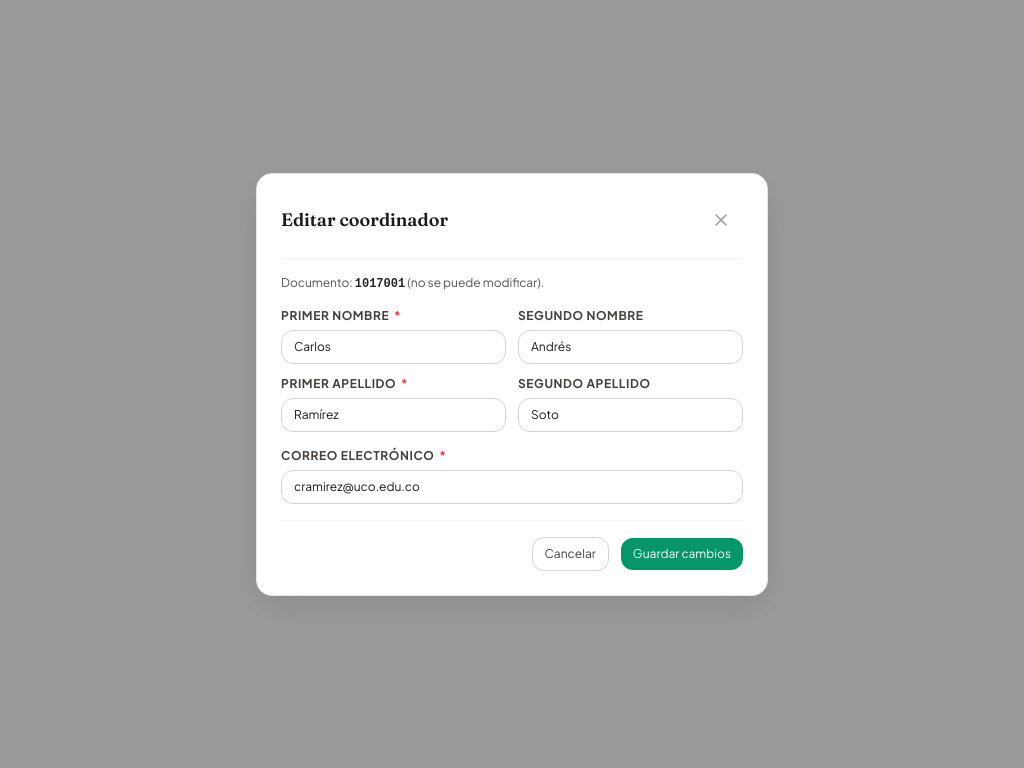
Scenario: DeanCoordinadorEditModalComponent (HU121) › valida al escribir: un correo sin formato deshabilita guardar
Replace the text in the field below "Correo electrónico" with "esto-no-es-un-correo": (512, 486) [281,470,743,504]
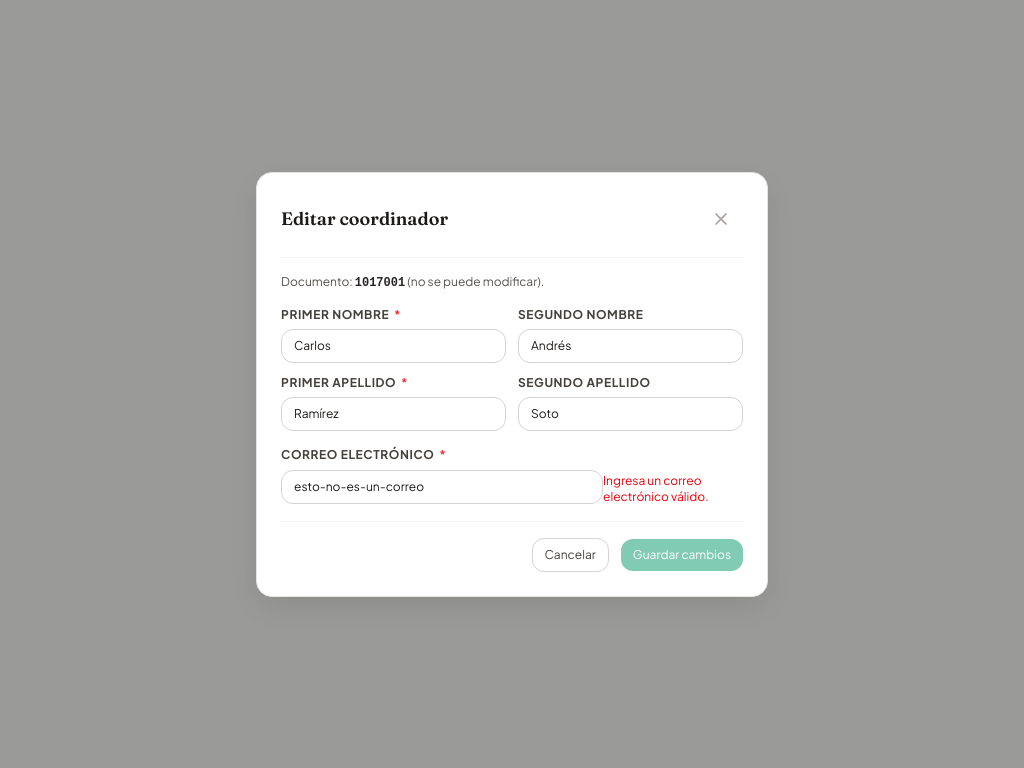
Check: the submit button is disabled, box [621,538,743,570]
